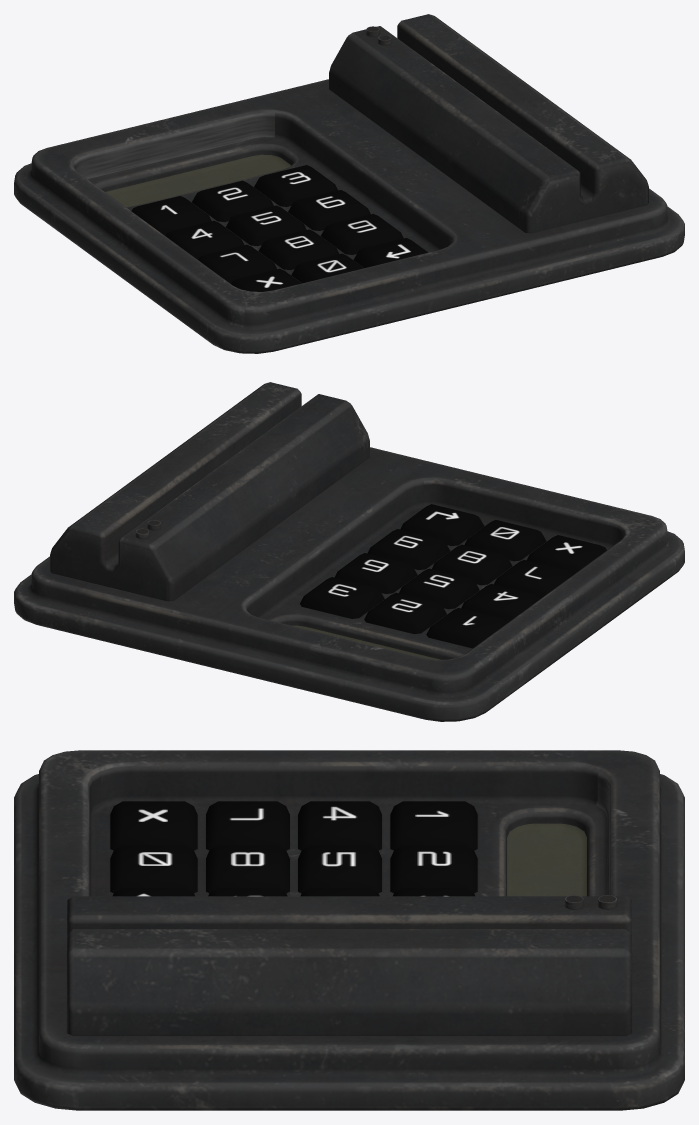
File: lock_system.glb
3 renders of one model, top to bottom at view 1: azimuth 30°, elevation 25°; view 2: azimuth 150°, elevation 25°; view 3: azimuth 270°, elevation 25°, orthographic. The views are drawn at different scales.
Parts seen in each view (by area): view 1: Cube; view 2: Cube; view 3: Cube.
Boxes of the visible parts, x1,y1,x2,y2 form: Cube: (14, 14, 684, 353); Cube: (14, 382, 684, 721); Cube: (14, 750, 684, 1110).
Size of the model in its own units: 2.45 by 0.4949 by 2.16.
1 material, 1 textured.
